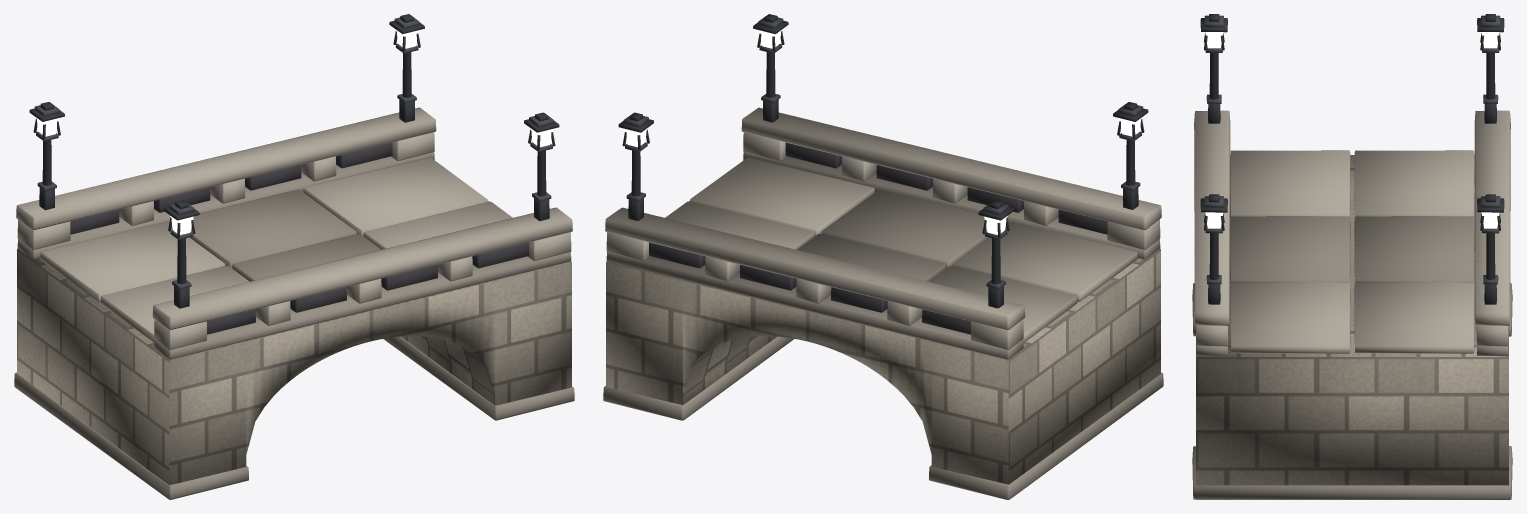
The model's file is OBJ31_grand_arch_bridge_lamps.glb.
The picture shows the model from 3 angles, left to right: view 1: azimuth 30°, elevation 25°; view 2: azimuth 150°, elevation 25°; view 3: azimuth 270°, elevation 25°; orthographic projection. The views are drawn at different scales.
Visible parts, largest first — view 1: ArchBody, TopRail_Front, TopRail_Back, DeckSlab_2_-1, DeckSlab_0_-1, DeckSlab_1_-1, Curb_Front, PierTrim_-1, Curb_Back, DeckSlab_0_1, DeckSlab_2_1, DeckSlab_1_1 (+19 smaller); view 2: ArchBody, TopRail_Back, TopRail_Front, DeckSlab_2_1, DeckSlab_0_1, DeckSlab_1_1, Curb_Back, PierTrim_-1, Curb_Front, DeckSlab_0_-1, DeckSlab_2_-1, DeckSlab_1_-1 (+19 smaller); view 3: ArchBody, DeckSlab_2_-1, DeckSlab_2_1, DeckSlab_0_-1, DeckSlab_0_1, DeckSlab_1_-1, DeckSlab_1_1, TopRail_Back, TopRail_Front, PierTrim_1, Baluster_Back_4, Baluster_Front_4 (+4 smaller).
Boxes of the visible parts, <box> form: ArchBody: <box>17,201,571,485</box>; TopRail_Front: <box>152,207,572,329</box>; TopRail_Back: <box>16,107,436,229</box>; DeckSlab_2_-1: <box>303,157,487,236</box>; DeckSlab_0_-1: <box>40,221,225,301</box>; DeckSlab_1_-1: <box>190,189,356,268</box>; Curb_Front: <box>154,252,571,359</box>; PierTrim_-1: <box>14,372,248,499</box>; Curb_Back: <box>17,152,434,259</box>; DeckSlab_0_1: <box>100,265,249,342</box>; DeckSlab_2_1: <box>363,201,512,249</box>; DeckSlab_1_1: <box>232,233,381,281</box>; ArchBody: <box>606,201,1160,484</box>; TopRail_Back: <box>605,207,1025,329</box>; TopRail_Front: <box>741,107,1161,229</box>; DeckSlab_2_1: <box>690,157,874,236</box>; DeckSlab_0_1: <box>952,221,1137,301</box>; DeckSlab_1_1: <box>821,189,988,268</box>; Curb_Back: <box>606,252,1023,359</box>; PierTrim_-1: <box>929,372,1163,499</box>; Curb_Front: <box>743,152,1160,259</box>; DeckSlab_0_-1: <box>928,265,1077,342</box>; DeckSlab_2_-1: <box>665,201,814,249</box>; DeckSlab_1_-1: <box>796,233,945,281</box>; ArchBody: <box>1196,155,1508,499</box>; DeckSlab_2_-1: <box>1354,282,1474,353</box>; DeckSlab_2_1: <box>1230,282,1350,353</box>; DeckSlab_0_-1: <box>1354,150,1474,216</box>; DeckSlab_0_1: <box>1230,150,1350,216</box>; DeckSlab_1_-1: <box>1354,216,1474,282</box>; DeckSlab_1_1: <box>1230,216,1350,282</box>; TopRail_Back: <box>1474,110,1510,325</box>; TopRail_Front: <box>1194,110,1230,325</box>; PierTrim_1: <box>1192,446,1512,499</box>; Baluster_Back_4: <box>1476,325,1508,346</box>; Baluster_Front_4: <box>1196,325,1228,346</box>.
Size of the model in its own units: 2.37 by 1.59 by 1.58.
7 materials, 1 textured.
